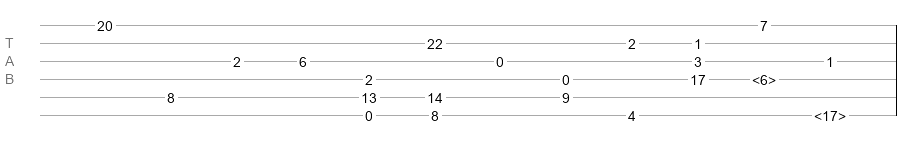0: (365, 108, 373, 118), (496, 54, 504, 64), (562, 72, 570, 82)
1: (694, 36, 702, 46), (826, 54, 834, 64)
13: (361, 90, 377, 100)
14: (427, 90, 443, 100)
17: (690, 72, 706, 82)
2: (233, 54, 241, 64), (365, 72, 373, 82), (628, 36, 636, 46)
20: (97, 18, 113, 28)
22: (427, 36, 443, 46)
3: (694, 54, 702, 64)
4: (628, 108, 636, 118)
6: (299, 54, 307, 64)
7: (760, 18, 768, 28)
8: (167, 90, 175, 100), (431, 108, 439, 118)
9: (562, 90, 570, 100)
harmonic: (814, 108, 846, 118), (752, 72, 776, 82)
